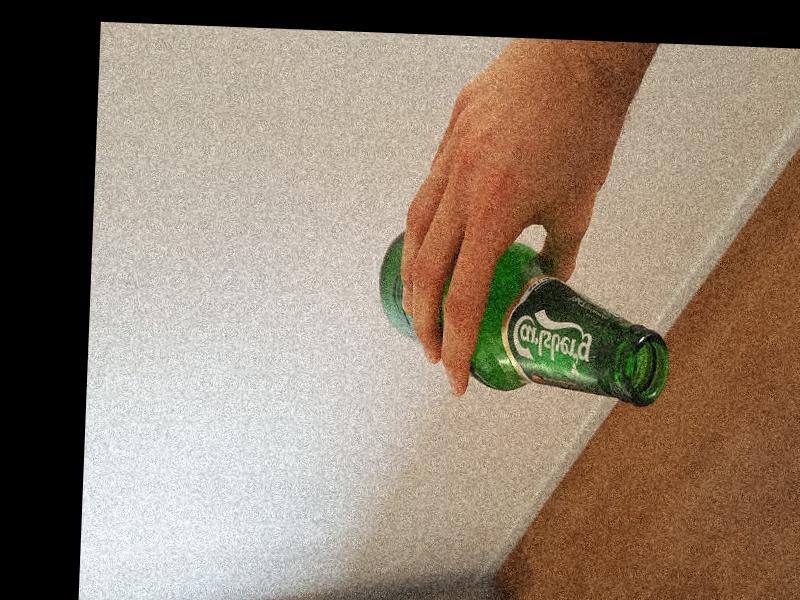Beer: (376, 236, 674, 406)
